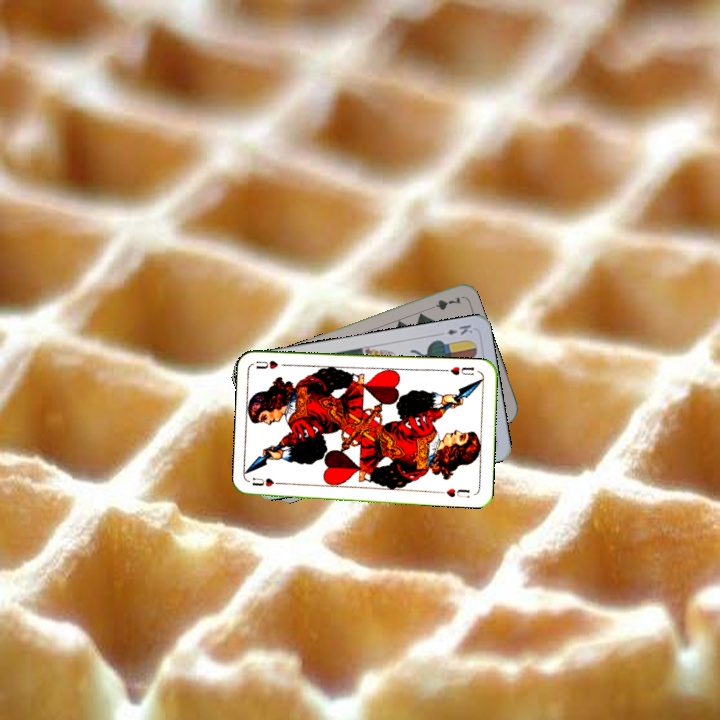EK: (443, 320, 475, 338)
G7: (423, 292, 464, 313)
HU: (248, 474, 288, 489), (441, 362, 477, 378)
